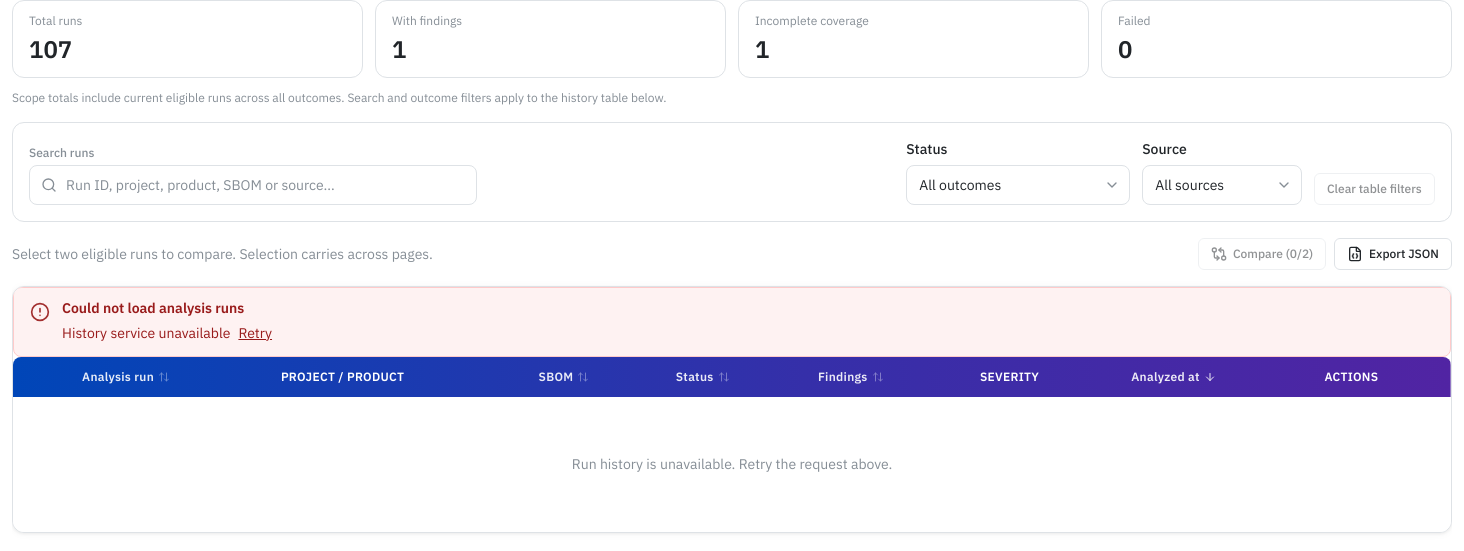
Test: analysis history › shows failures and allows retry without inventing an empty success
Check: the text "History service unavailable" is shown, box [62,324,230,342]
Click the button "Retry": (255, 333) [238,322,272,344]
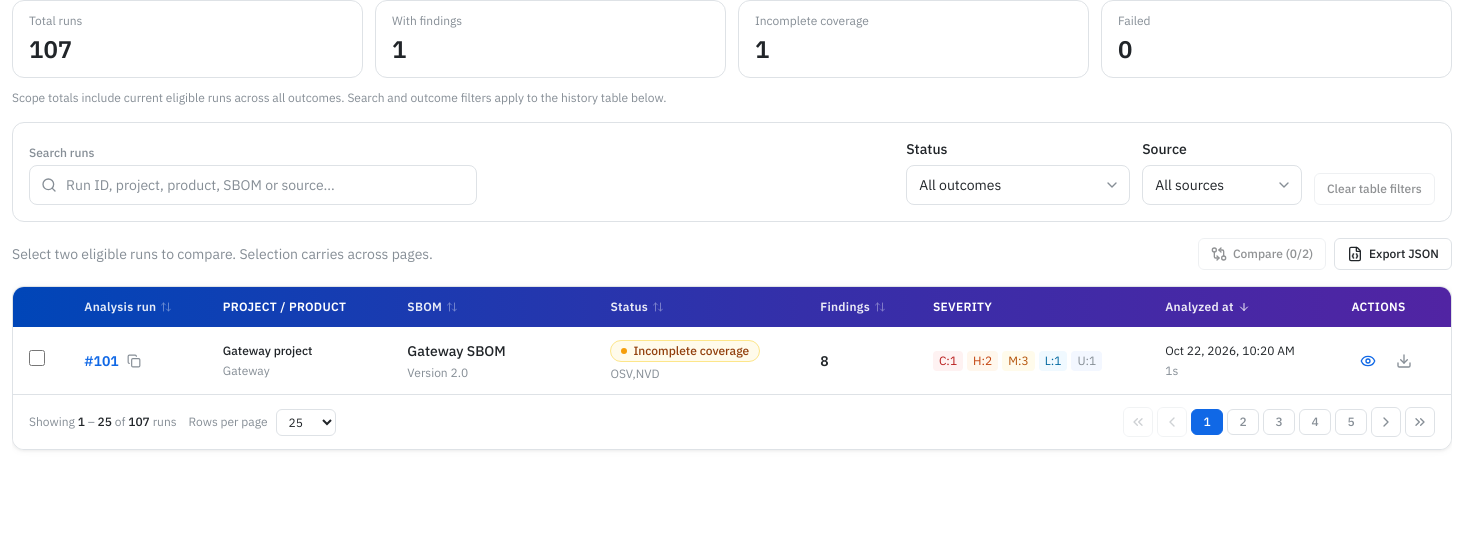
Check: the link "#101" is shown, box [84,350,119,370]
